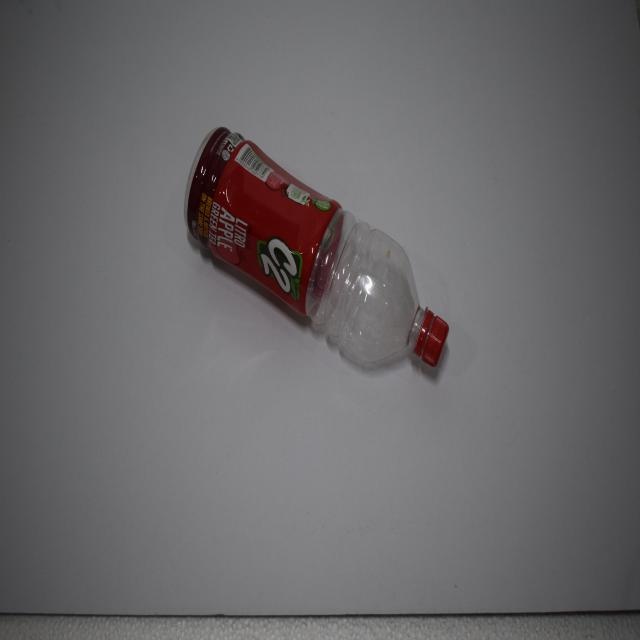bottle: (163, 103, 467, 417)
